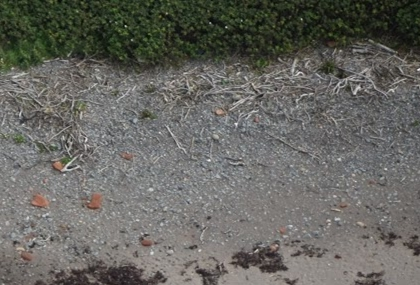scattered_barrel: (1, 96, 234, 276)
